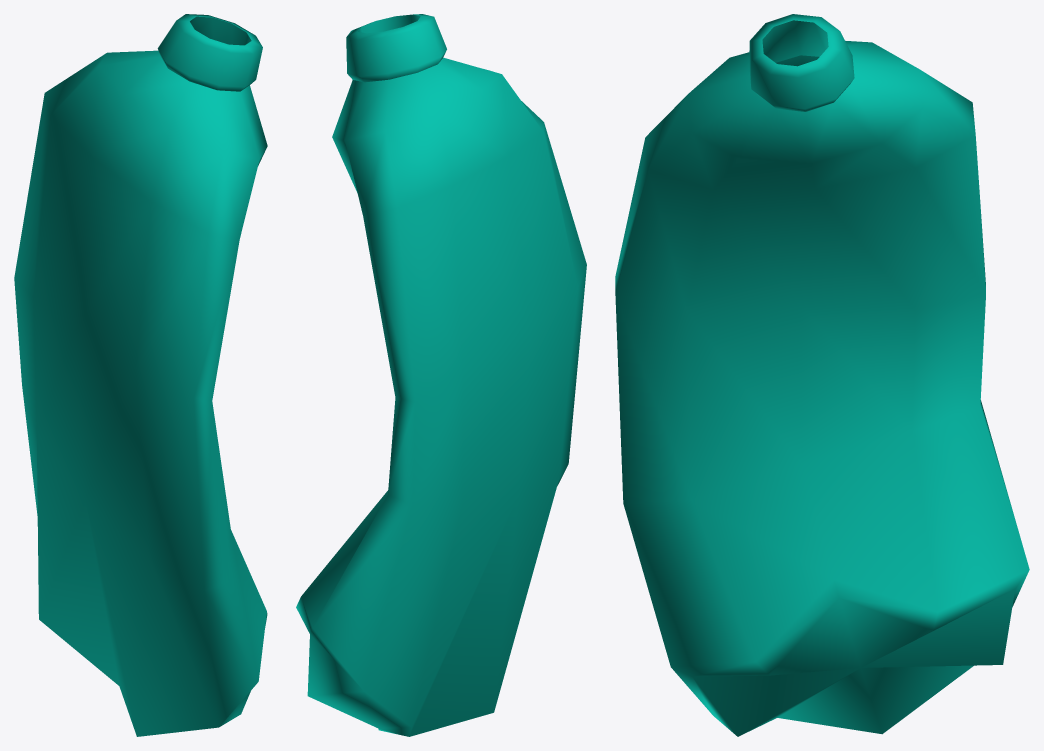
Rendered from li_bottlePlastic02.fbx.
3 renders of one model, left to right at view 1: azimuth 30°, elevation 25°; view 2: azimuth 150°, elevation 25°; view 3: azimuth 270°, elevation 25°, orthographic. The views are drawn at different scales.
Parts seen in each view (by area): view 1: li_bottlePlastic02; view 2: li_bottlePlastic02; view 3: li_bottlePlastic02.
Part boxes in pixels (left/top/right/bottom): li_bottlePlastic02: left=14, top=14, right=267, bottom=736; li_bottlePlastic02: left=296, top=14, right=586, bottom=736; li_bottlePlastic02: left=615, top=14, right=1029, bottom=736.
Size of the model in its own units: 4.94 by 17.9 by 9.32.
